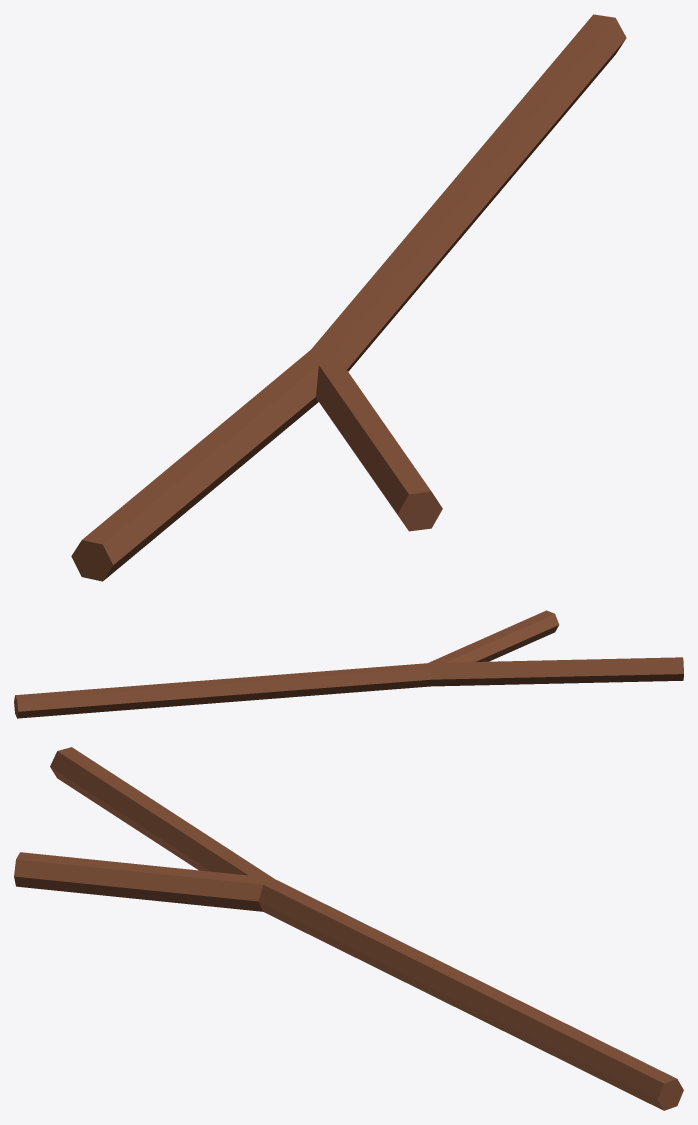
File: basic_stick.fbx
3 views of the same model, one above another, from view 1: azimuth 30°, elevation 25°; view 2: azimuth 150°, elevation 25°; view 3: azimuth 270°, elevation 25° (orthographic). The views are drawn at different scales.
Parts seen in each view (by area): view 1: Stick; view 2: Stick; view 3: Stick.
Part boxes in pixels (<box>): Stick: <box>71,14,626,581</box>; Stick: <box>14,610,683,718</box>; Stick: <box>14,747,683,1110</box>.
Bounding box in the file's own units: 278 × 10.39 × 231.
